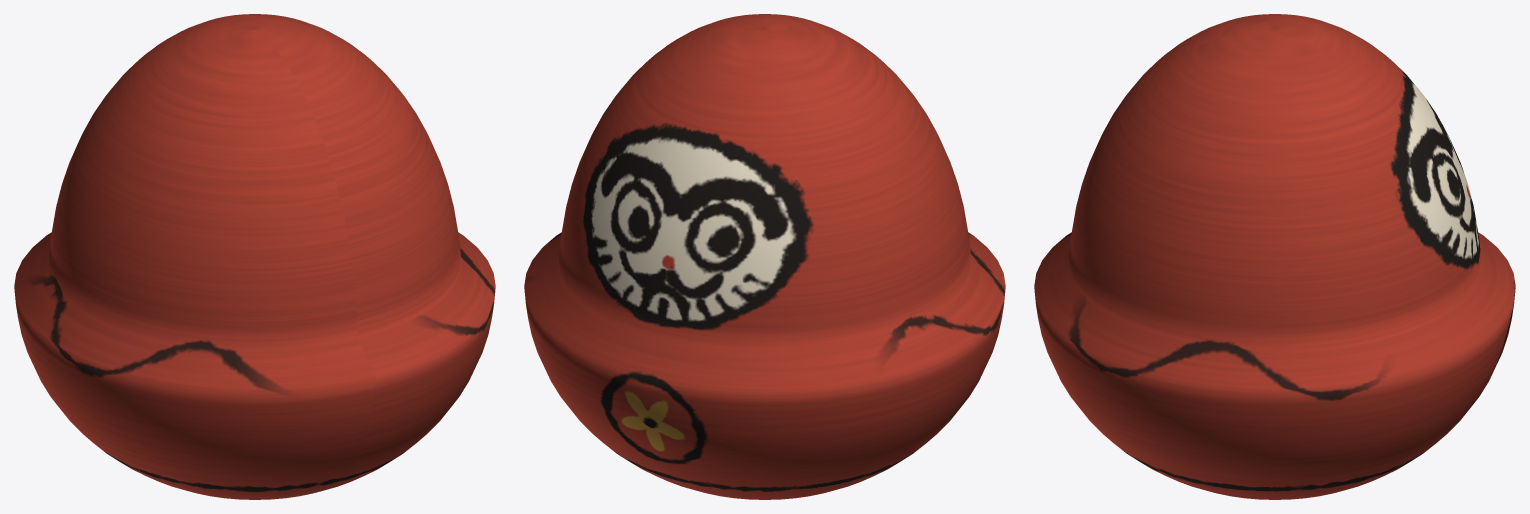
File: daruma.obj
3 renders of one model, left to right at view 1: azimuth 30°, elevation 25°; view 2: azimuth 150°, elevation 25°; view 3: azimuth 270°, elevation 25°, orthographic.
Parts seen in each view (by area): view 1: daruma; view 2: daruma; view 3: daruma.
Boxes of the visible parts, x1,y1,x2,y2 form: daruma: [14, 14, 495, 499]; daruma: [524, 14, 1005, 499]; daruma: [1034, 14, 1515, 499].
Bounding box in the file's own units: 2 × 2 × 2.
Materials: 1 (1 with a texture image).
